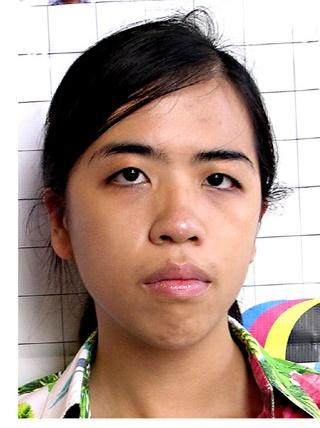No Mask: (37, 13, 307, 382)
